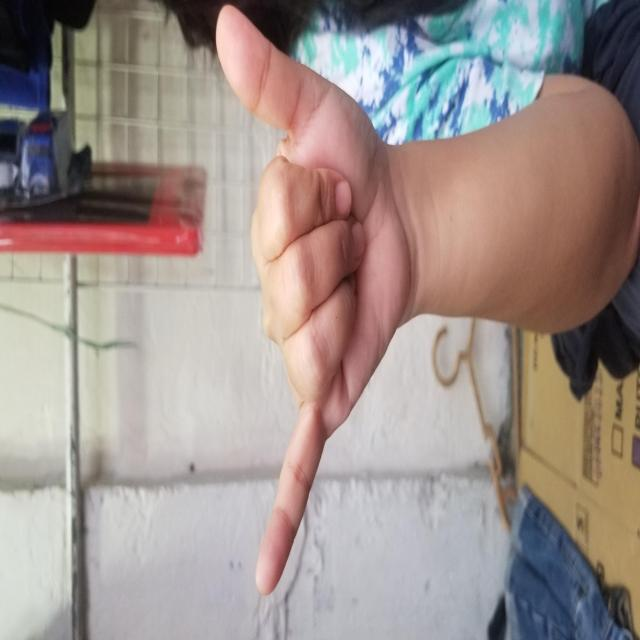Y: (189, 20, 433, 607)
